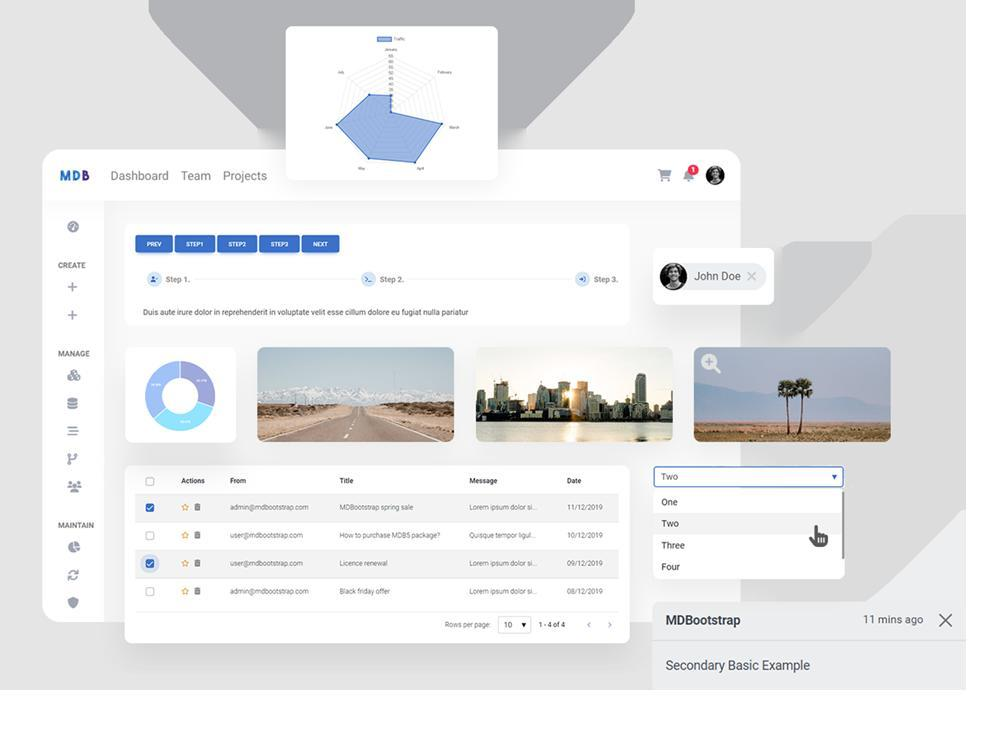button: (217, 236, 259, 254), (136, 235, 175, 254), (302, 236, 341, 255), (176, 236, 216, 254), (260, 236, 300, 254)
checkbox: (145, 559, 156, 570), (146, 503, 156, 515), (145, 588, 157, 598), (146, 478, 157, 488), (146, 531, 156, 542)
dropdown: (655, 468, 845, 488), (500, 617, 533, 635)
icon: (698, 350, 723, 380), (681, 160, 702, 186), (64, 481, 87, 497), (64, 568, 83, 587), (66, 595, 85, 613), (63, 426, 85, 440), (65, 395, 83, 412), (67, 540, 83, 559), (67, 452, 84, 469), (657, 167, 675, 183), (65, 306, 79, 326), (66, 368, 84, 383), (65, 221, 83, 235), (606, 617, 617, 634), (584, 617, 596, 632), (65, 283, 80, 294)
table: (135, 470, 622, 636)
